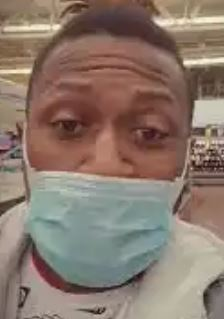with_facemask: (24, 140, 169, 292)
